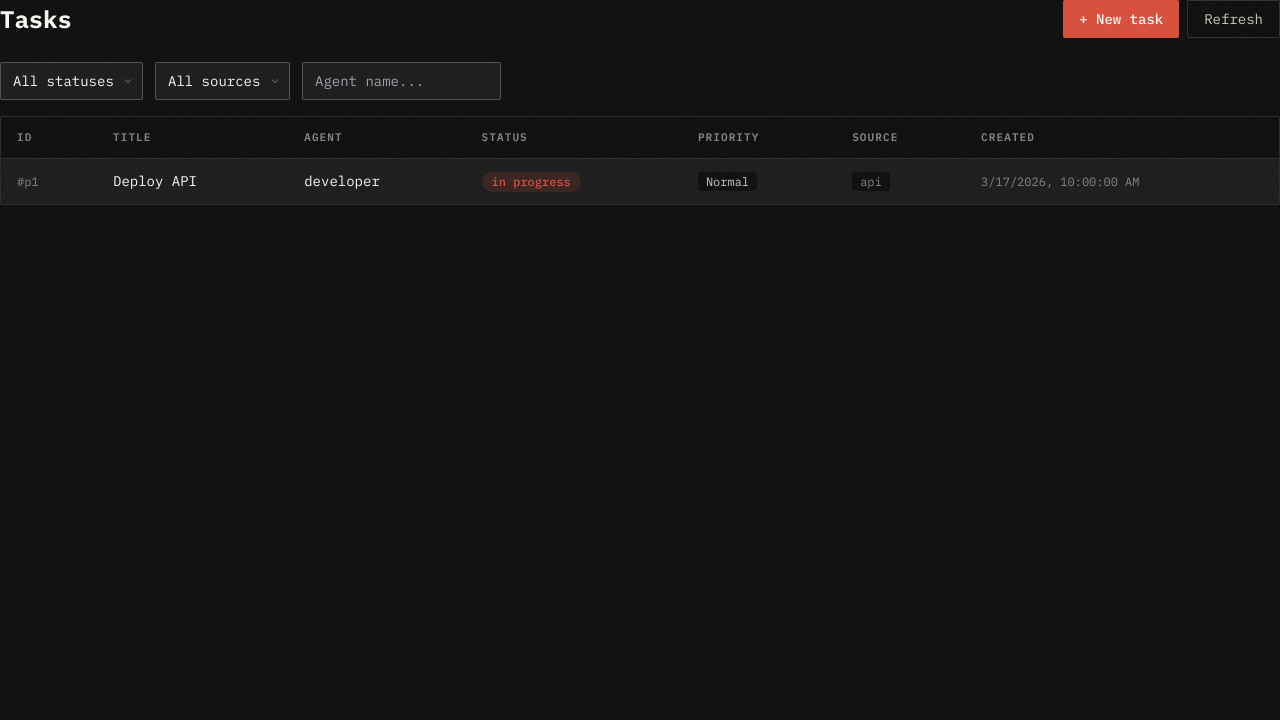
Test case: TasksPage › opens confirm dialog before cancelling
Click the text "Deploy API".
click(155, 181)  # box [113,172,197,190]
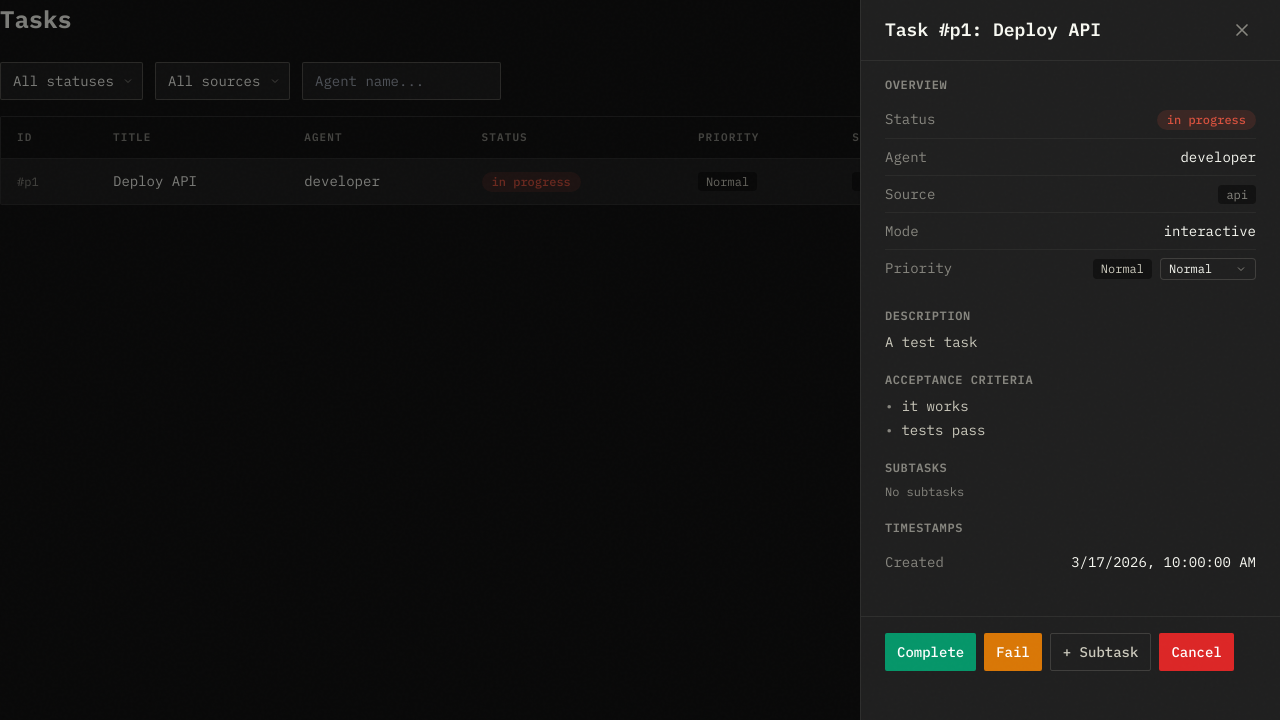
Click the button "Cancel".
click(1197, 652)  # box [1159,633,1234,671]
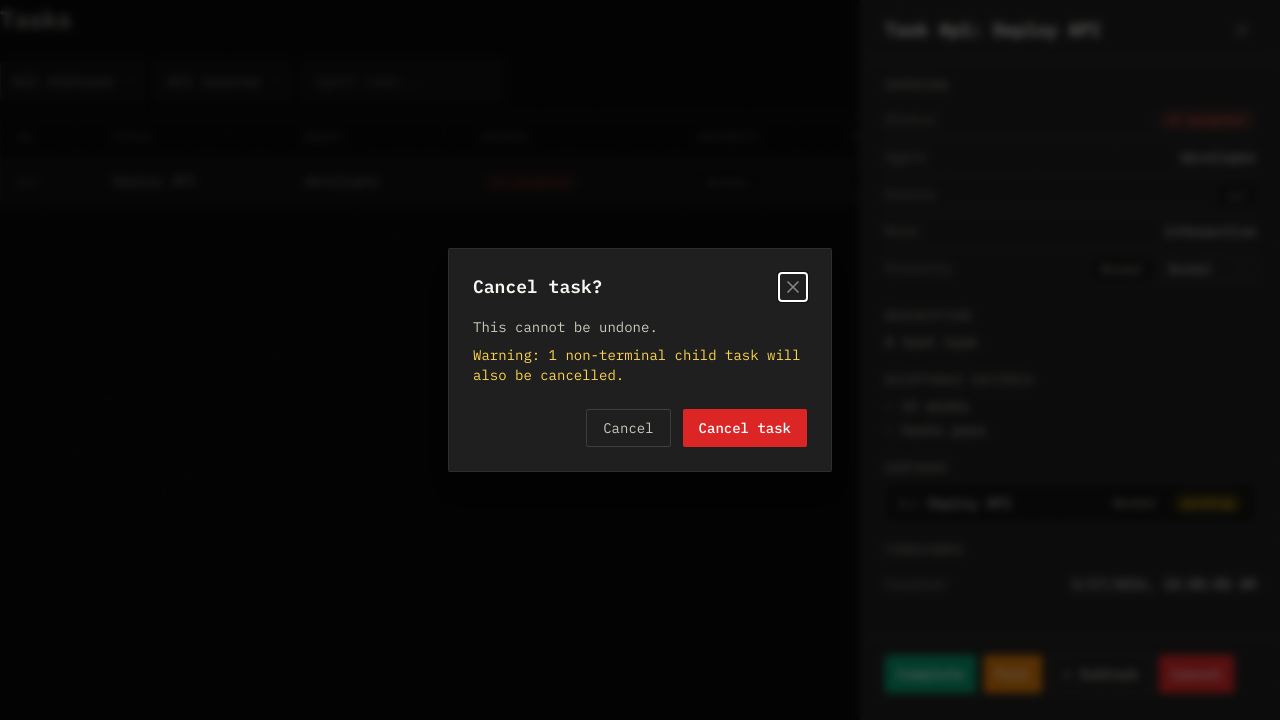
expect the heading "Cancel task?" is shown: met, box [473,273,603,301]
expect the text "Warning: 1 non-terminal child task will also be cancelled." is shown: met, box [473,345,807,385]
